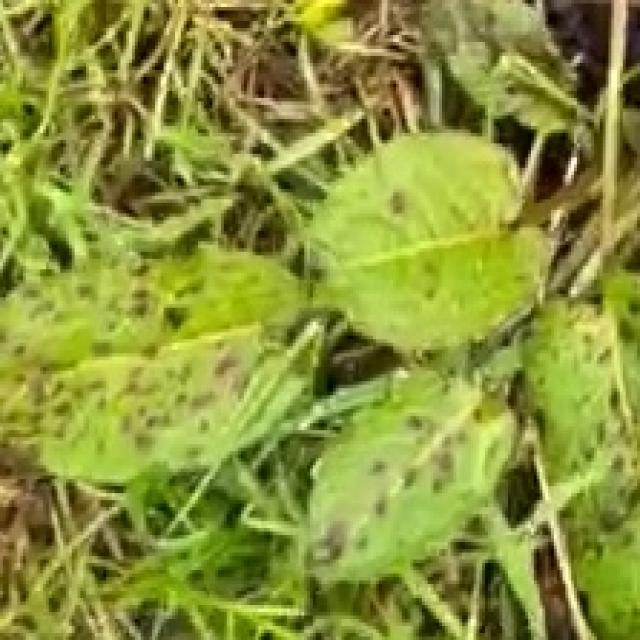organic waste: (9, 121, 640, 633)
